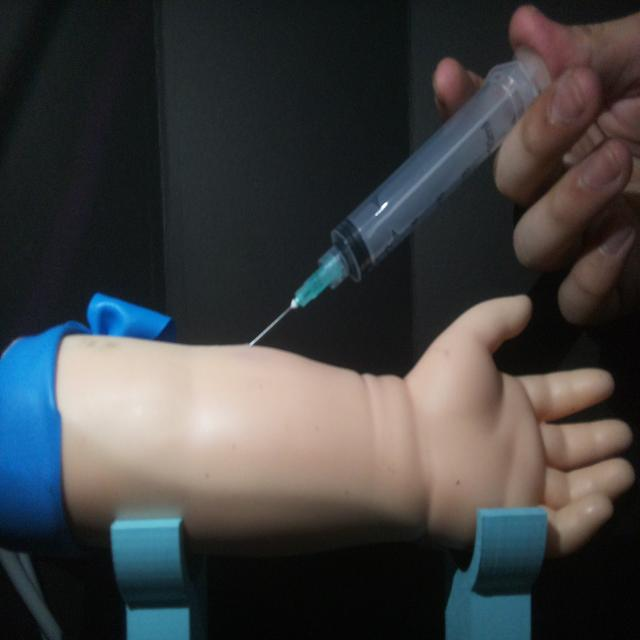29deg: (242, 48, 552, 350)
